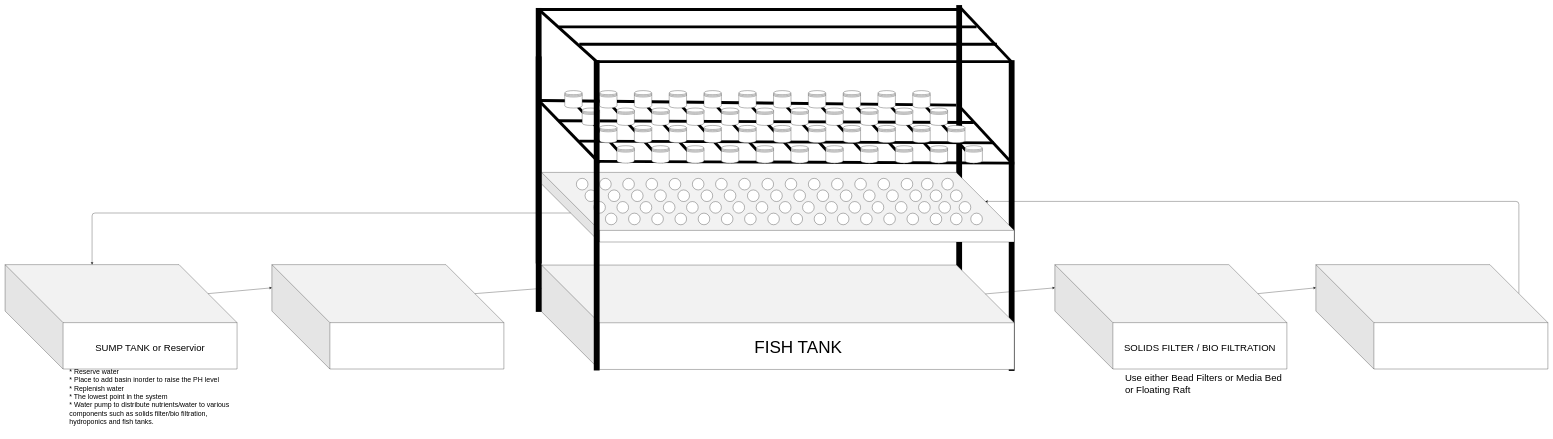
The diagram is 1553 pixels wide and 439 high, and some of its shapes have lost their labels. Each missing label, with the box of its shape:
SOLIDS FILTER/ BIO FILTRATION OUTPUT Reservior: (1316, 264, 1548, 369)
SUMP TANK clean water output reservior: (272, 264, 504, 369)
